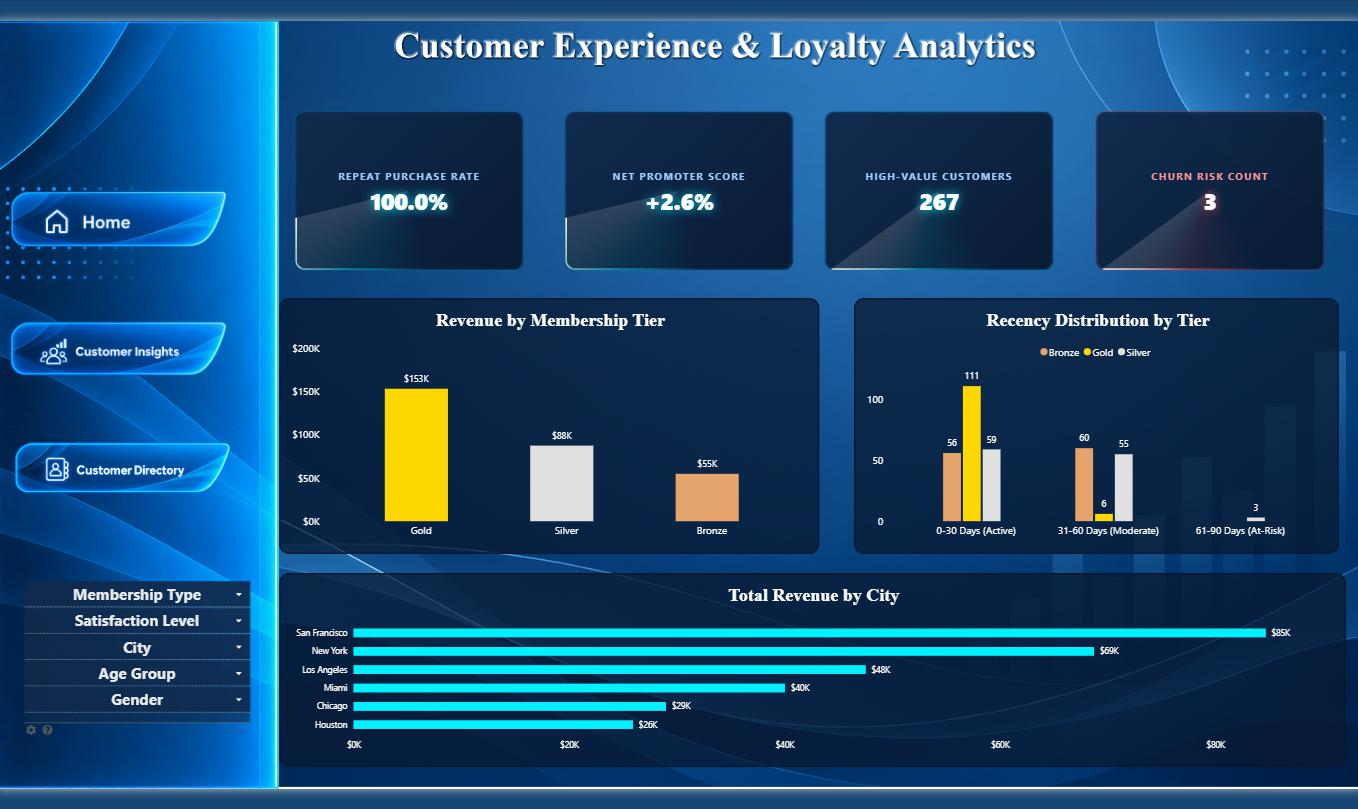

What the dashboard file says about the page in this screenshot:
{"tool":"powerbi","page":{"name":"Customer Insights","canvas":[1920,1080],"ordinal":1},"visuals":[{"type":"image","box":[0,0,398.3,1079.6],"z":0},{"type":"htmlContent443BE3AD55E043BF878BED274D3A6855","fields":{"content":["CB.Sliding_Header_Image"]},"box":[379.3,0,1540.7,125.5],"z":1000},{"type":"image","box":[18,182.7,307.2,190.2],"z":2000},{"type":"htmlContent443BE3AD55E043BF878BED274D3A6855","fields":{"content":["HTML_UI_Measures.HTML_Card_RepeatPurchase"]},"box":[398.7,106.6,366,266],"z":3000},{"type":"htmlContent443BE3AD55E043BF878BED274D3A6855","fields":{"content":["HTML_UI_Measures.HTML_Card_NPSScore"]},"box":[778,106.6,366,266],"z":4000},{"type":"htmlContent443BE3AD55E043BF878BED274D3A6855","fields":{"content":["HTML_UI_Measures.HTML_Card_HighValueCust"]},"box":[1143.4,106.6,366,266],"z":5000},{"type":"htmlContent443BE3AD55E043BF878BED274D3A6855","fields":{"content":["HTML_UI_Measures.HTML_Card_ChurnRisk"]},"box":[1524.1,106.6,366,266],"z":6000},{"type":"clusteredColumnChart","title":"Revenue by Membership Tier","fields":{"Category":["CB.Membership Type"],"Y":["CB.Total Revenue"]},"box":[398.7,389,760,360],"z":7000},{"type":"clusteredColumnChart","title":"Recency Distribution by Tier","fields":{"Category":["CB.Recency Group"],"Series":["CB.Membership Type"],"Y":["CB.Total Customers"]},"box":[1207.1,389,682.5,359.9],"z":8000},{"type":"barChart","title":"Total Revenue by City","fields":{"Category":["CB.City"],"Y":["CB.Total Revenue"]},"box":[398.7,776.6,1500.6,272.7],"z":9000},{"type":"image","box":[18,372.4,307.3,177.2],"z":10000},{"type":"image","box":[23.5,539.9,307.3,177.2],"z":11000},{"type":"slicerbar3CFEC581C7714376BAAD037A86A563B6","fields":{"category":["CB.Membership Type","CB.Satisfaction Level","CB.City","CB.Age Group","CB.Gender"]},"box":[24.1,774,349.3,248.5],"z":11001}]}

Visuals, with their boxes on the page's 1920x1080 design canvas (x1, y1, x2, y2). These are canvas units, not pixel positions in the 1358x809 screenshot, which may show the page scaled, cropped or inside an application window:
image: bbox=(0, 0, 398, 1080)
htmlContent443BE3AD55E043BF878BED274D3A6855 - CB.Sliding_Header_Image: bbox=(379, 0, 1920, 126)
image: bbox=(18, 183, 325, 373)
htmlContent443BE3AD55E043BF878BED274D3A6855 - HTML_UI_Measures.HTML_Card_RepeatPurchase: bbox=(399, 107, 765, 373)
htmlContent443BE3AD55E043BF878BED274D3A6855 - HTML_UI_Measures.HTML_Card_NPSScore: bbox=(778, 107, 1144, 373)
htmlContent443BE3AD55E043BF878BED274D3A6855 - HTML_UI_Measures.HTML_Card_HighValueCust: bbox=(1143, 107, 1509, 373)
htmlContent443BE3AD55E043BF878BED274D3A6855 - HTML_UI_Measures.HTML_Card_ChurnRisk: bbox=(1524, 107, 1890, 373)
"Revenue by Membership Tier" clusteredColumnChart: bbox=(399, 389, 1159, 749)
"Recency Distribution by Tier" clusteredColumnChart: bbox=(1207, 389, 1890, 749)
"Total Revenue by City" barChart: bbox=(399, 777, 1899, 1049)
image: bbox=(18, 372, 325, 550)
image: bbox=(24, 540, 331, 717)
slicerbar3CFEC581C7714376BAAD037A86A563B6 - CB.Membership Type x CB.Satisfaction Level: bbox=(24, 774, 373, 1022)
